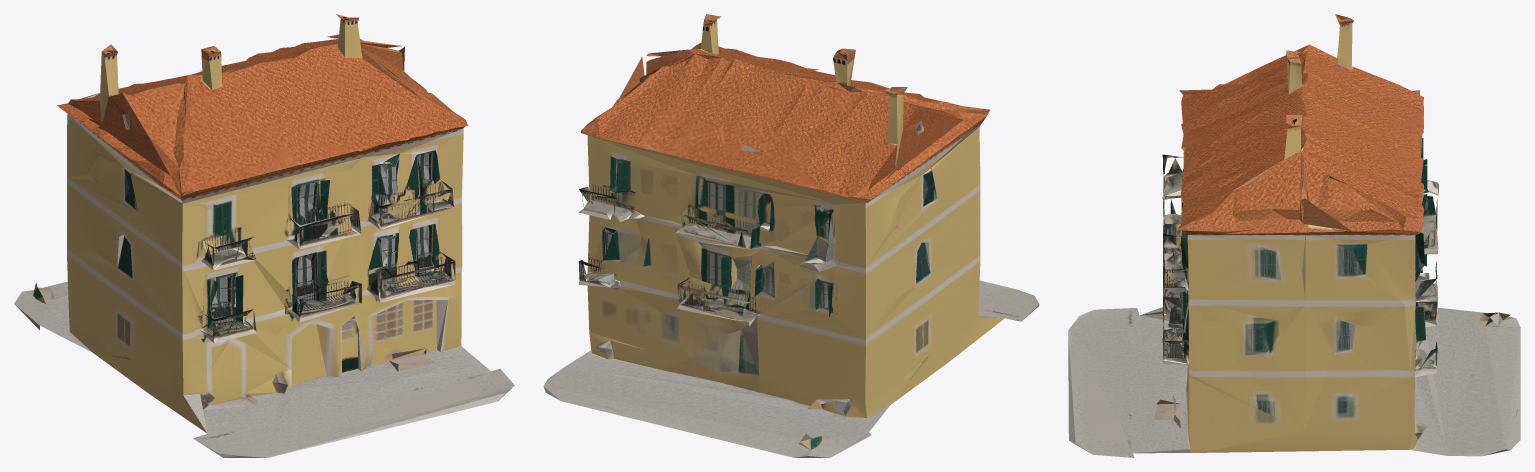
The model's file is villa.glb.
3 renders of one model, left to right at view 1: azimuth 30°, elevation 25°; view 2: azimuth 150°, elevation 25°; view 3: azimuth 270°, elevation 25°, orthographic.
Size of the model in its own units: 1.45 by 1.41 by 1.89.
1 material, 1 textured.
